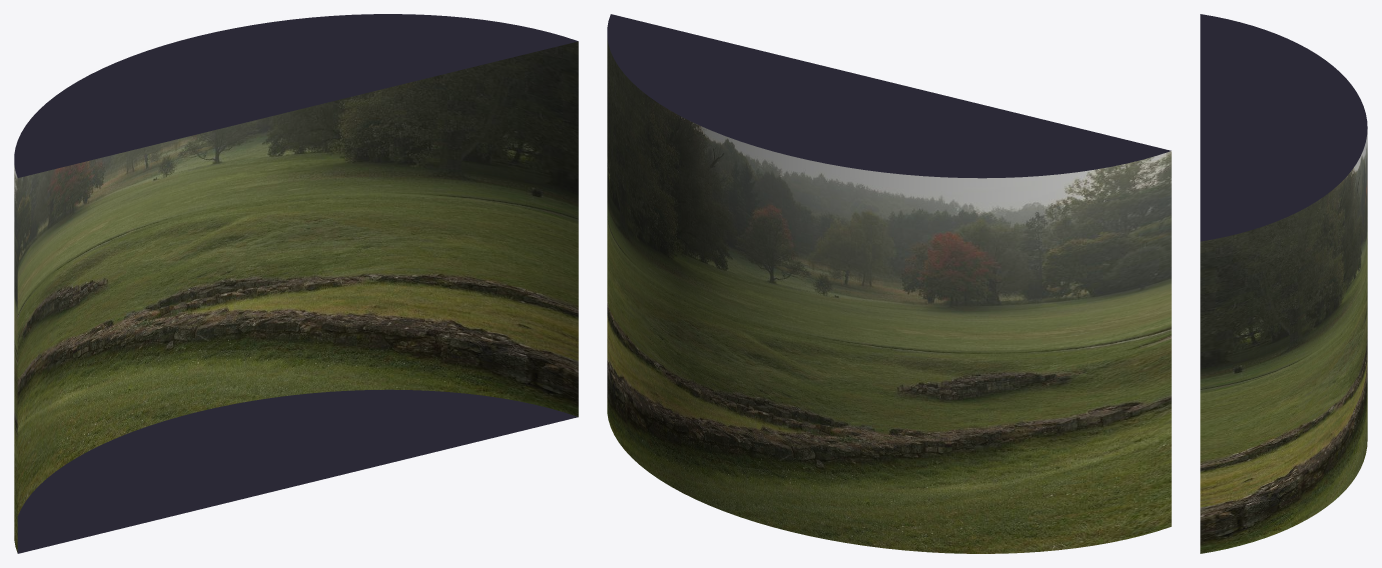
The model's file is mauerreste.glb.
3 views of the same model, side by side, from view 1: azimuth 30°, elevation 25°; view 2: azimuth 150°, elevation 25°; view 3: azimuth 270°, elevation 25° (orthographic). The views are drawn at different scales.
Parts seen in each view (by area): view 1: root; view 2: root; view 3: root.
Part boxes in pixels (x1,y1,x2,y2): root: (14, 14, 578, 553); root: (607, 14, 1171, 553); root: (1200, 14, 1367, 553).
Size of the model in its own units: 4.87 by 3.12 by 1.51.
2 materials, 1 textured.
